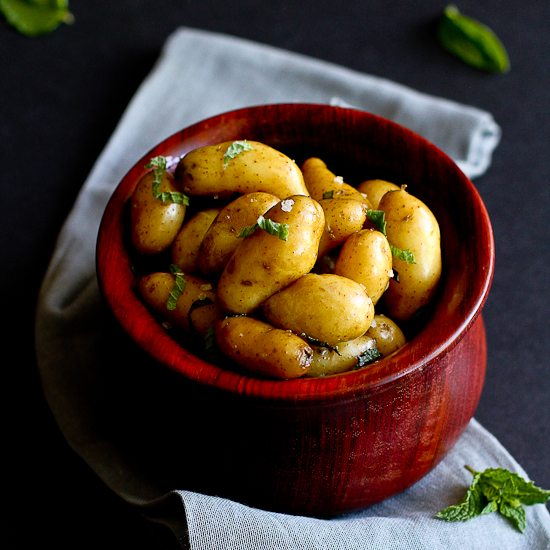boiled potatoes: (139, 140, 438, 358)
